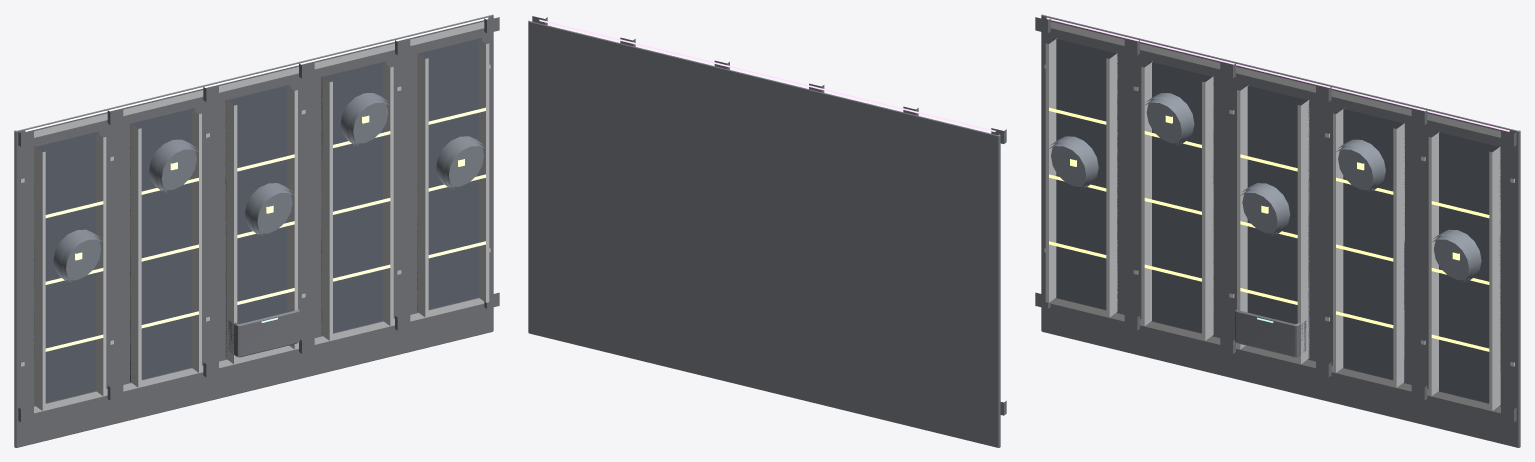
File: iter_02.glb
The picture shows the model from 3 angles, left to right: view 1: azimuth 30°, elevation 25°; view 2: azimuth 150°, elevation 25°; view 3: azimuth 330°, elevation 25°; orthographic projection.
Parts seen in each view (by area): view 1: Cable_Tray_Backs, Wall_Plate, Cable_Trays, Cable_Spools, Wall_Rail, Cable_Gates, Hook_Clamps, Junction_Box, Accent_Strip; view 2: Wall_Plate, Accent_Strip, Hook_Clamps; view 3: Cable_Tray_Backs, Wall_Plate, Cable_Trays, Cable_Spools, Wall_Rail, Cable_Gates, Hook_Clamps, Junction_Box, Accent_Strip.
Part boxes in pixels (bbox=[...]): Cable_Tray_Backs: bbox=[34, 38, 481, 402]; Wall_Plate: bbox=[14, 14, 493, 447]; Cable_Trays: bbox=[34, 38, 489, 410]; Cable_Spools: bbox=[53, 93, 485, 282]; Wall_Rail: bbox=[34, 21, 484, 413]; Cable_Gates: bbox=[45, 107, 485, 351]; Hook_Clamps: bbox=[18, 17, 499, 422]; Junction_Box: bbox=[228, 309, 299, 357]; Accent_Strip: bbox=[25, 17, 488, 131]; Wall_Plate: bbox=[528, 21, 1000, 447]; Accent_Strip: bbox=[539, 19, 995, 131]; Hook_Clamps: bbox=[532, 16, 1006, 415]; Cable_Tray_Backs: bbox=[1053, 38, 1500, 402]; Wall_Plate: bbox=[1041, 14, 1520, 447]; Cable_Trays: bbox=[1045, 38, 1500, 410]; Cable_Spools: bbox=[1049, 93, 1481, 282]; Wall_Rail: bbox=[1050, 21, 1500, 413]; Cable_Gates: bbox=[1049, 107, 1489, 351]; Hook_Clamps: bbox=[1035, 17, 1516, 422]; Junction_Box: bbox=[1235, 309, 1306, 357]; Accent_Strip: bbox=[1046, 17, 1509, 131].
Bounding box in the file's own units: 3 × 1.91 × 0.29.
